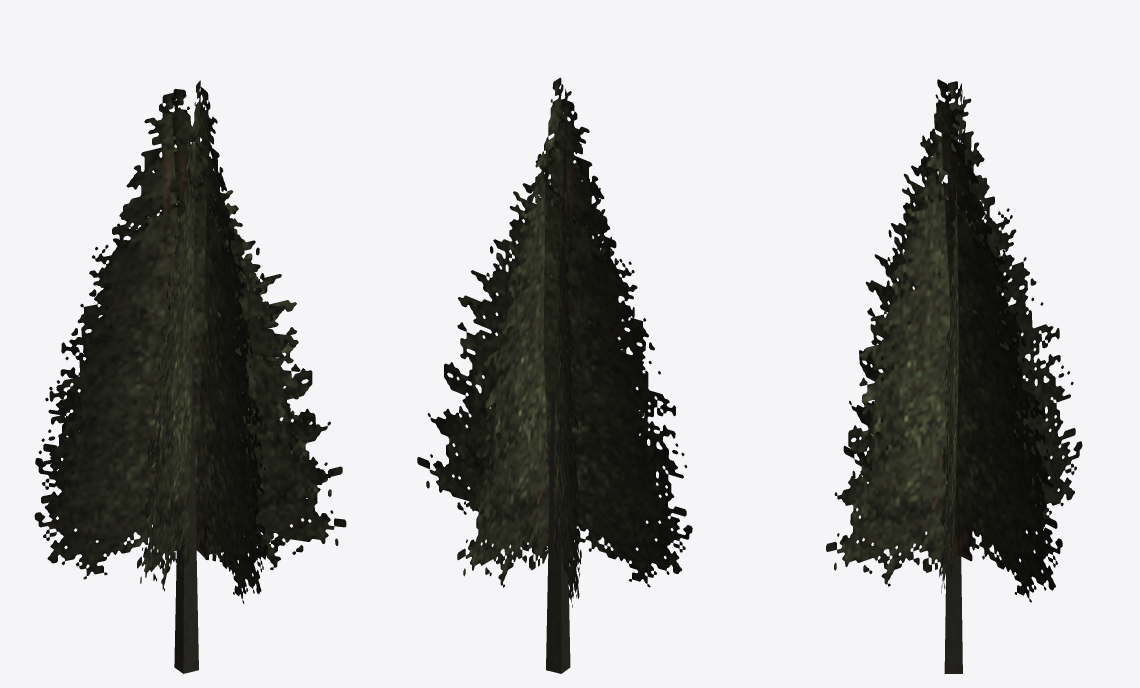
Rendered from Tree_2.fbx.
3 views of the same model, side by side, from view 1: azimuth 30°, elevation 25°; view 2: azimuth 150°, elevation 25°; view 3: azimuth 270°, elevation 25° (orthographic).
Visible parts, largest first — view 1: Tree.2; view 2: Tree.2; view 3: Tree.2.
Part boxes in pixels (left/top/right/bottom): Tree.2: left=34, top=80, right=346, bottom=673; Tree.2: left=417, top=77, right=692, bottom=673; Tree.2: left=826, top=79, right=1082, bottom=673.
Size of the model in its own units: 824 by 1505 by 811.
